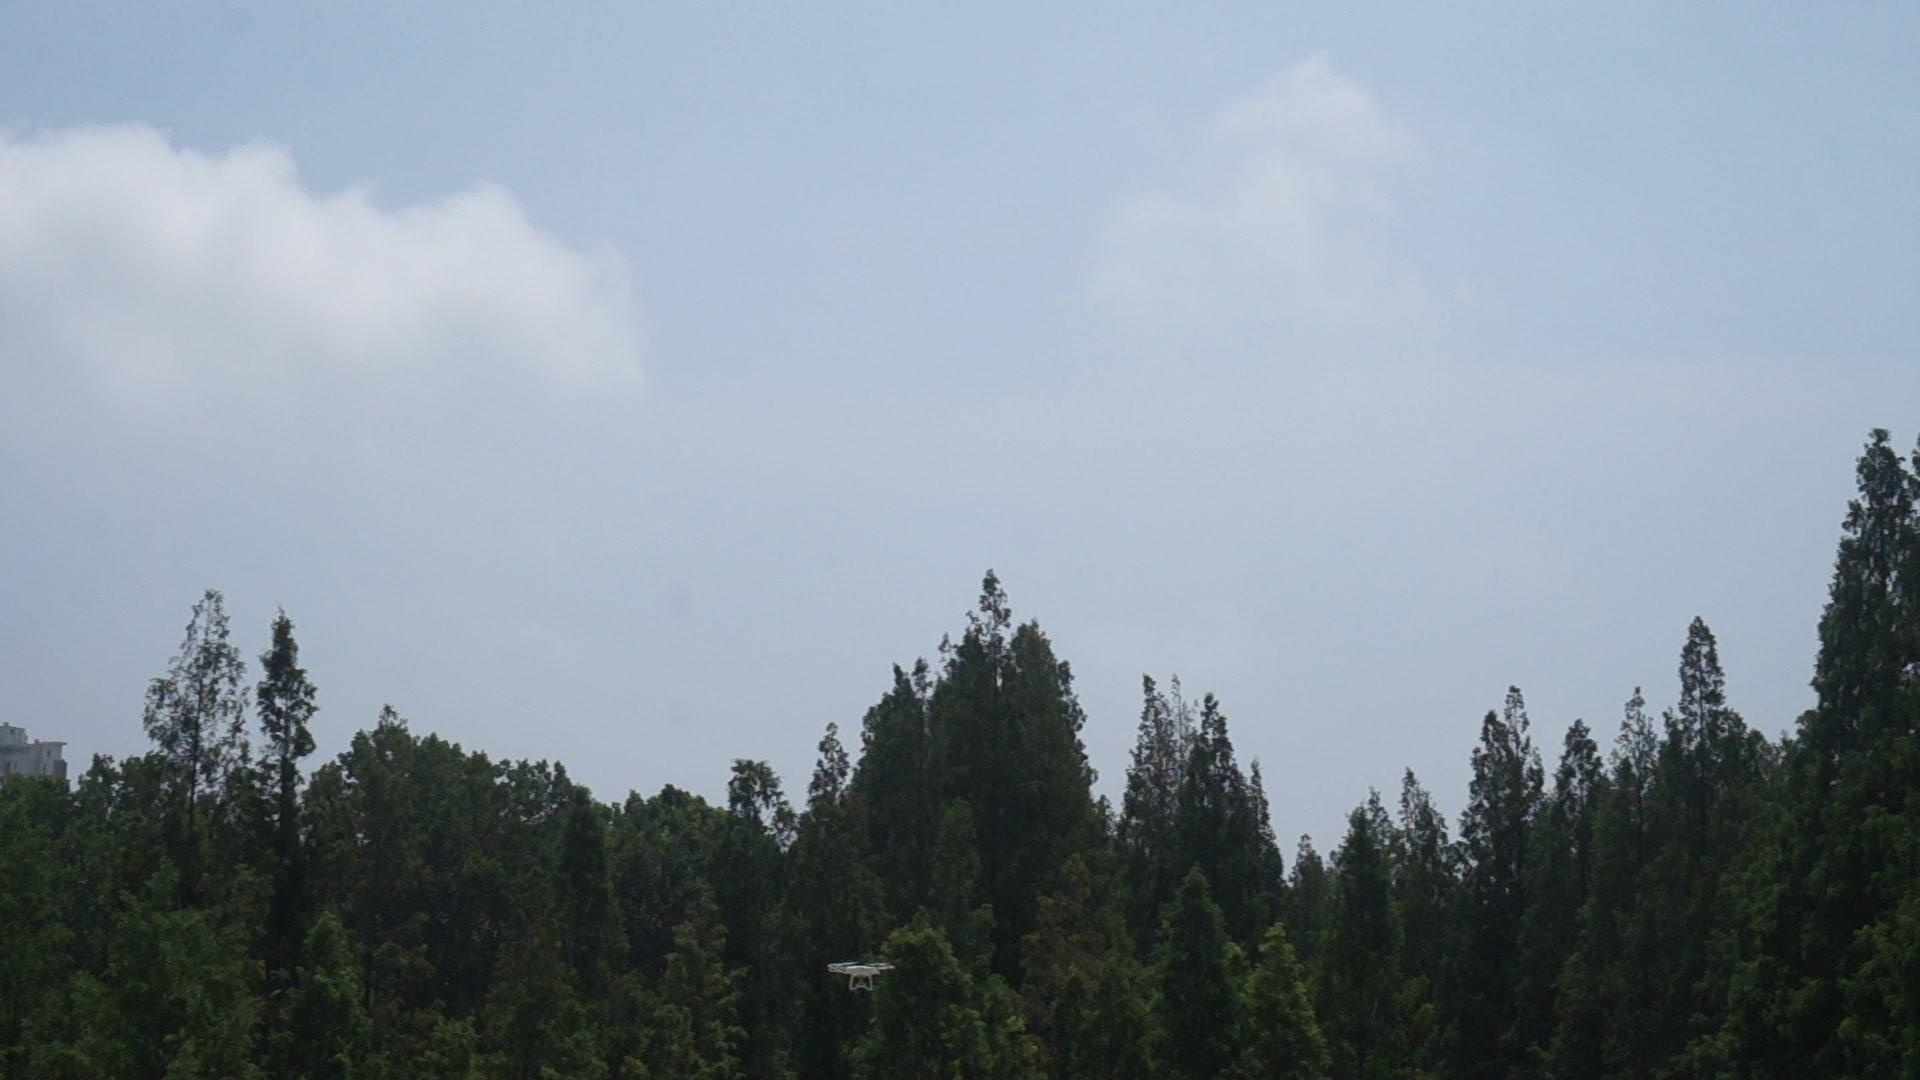UAV: (828, 963, 897, 992)
